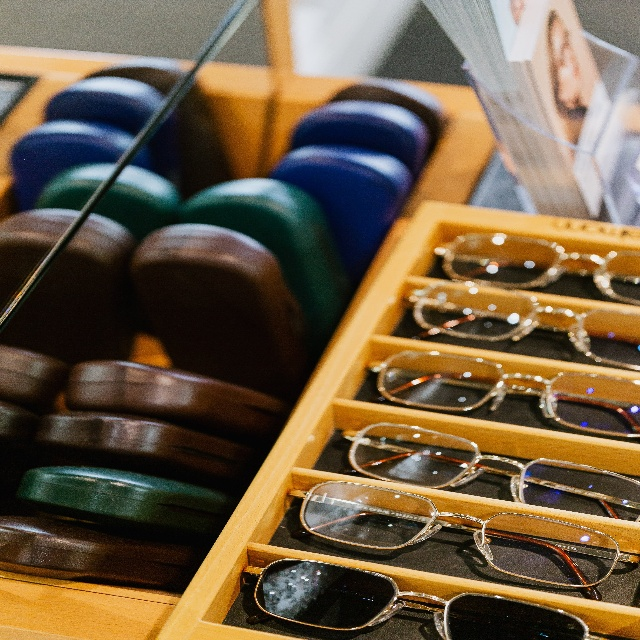Gafas: (287, 480, 639, 602), (341, 422, 640, 524), (240, 558, 589, 637), (365, 350, 640, 441), (404, 279, 639, 371), (433, 230, 640, 307)
